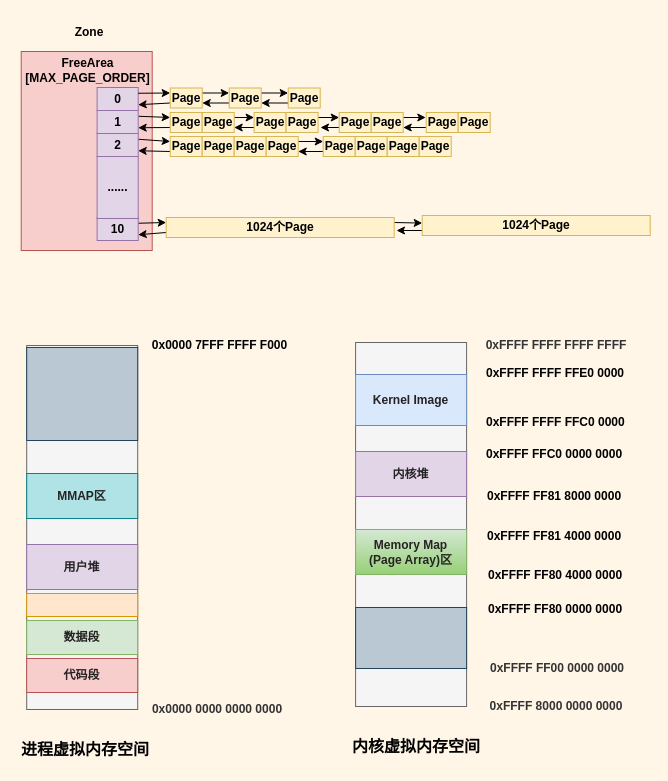
The diagram is 668 pixels wide and 781 high, and some of its shapes have lost their labels. Each missing label, with the centre of its shape:
"BSS段" belongs at pixel 82 604.
"用户栈" belongs at pixel 82 393.
"直接映射区" belongs at pixel 411 637.
